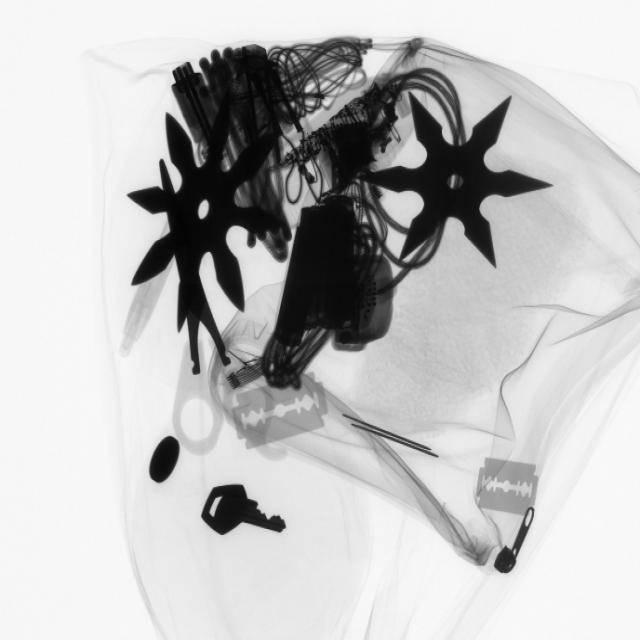BLADE: (223, 368, 333, 462), (467, 447, 546, 527)
SHURIKEN: (125, 98, 282, 345), (365, 91, 546, 276)
